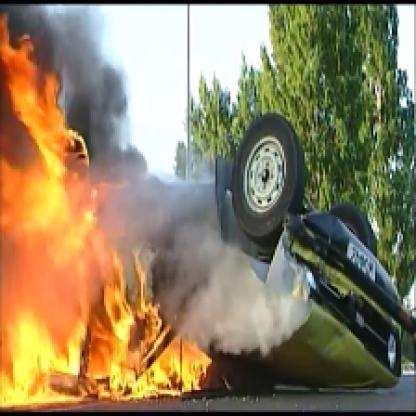Fire: (2, 43, 223, 405)
